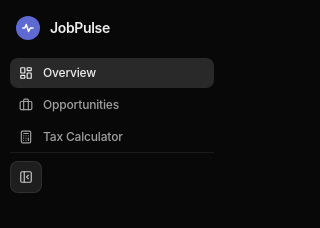
Test case: DashboardSidebar › exposes the navigation shortcut when a collapsed link receives focus
Click the button named "collapse". click: (26,177)
box: [10,161,42,193]
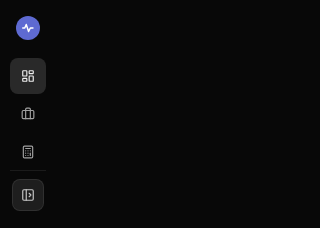
Focus the link named "overview". click: (28,76)
box: [10,58,46,94]
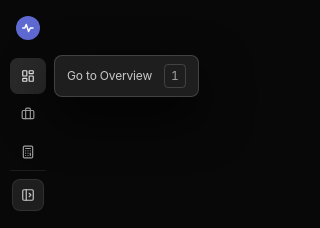
expect the tooltip shows "Go to Overview": met, box [67,68,152,83]
expect the tooltip shows "1": met, box [171,68,179,83]
